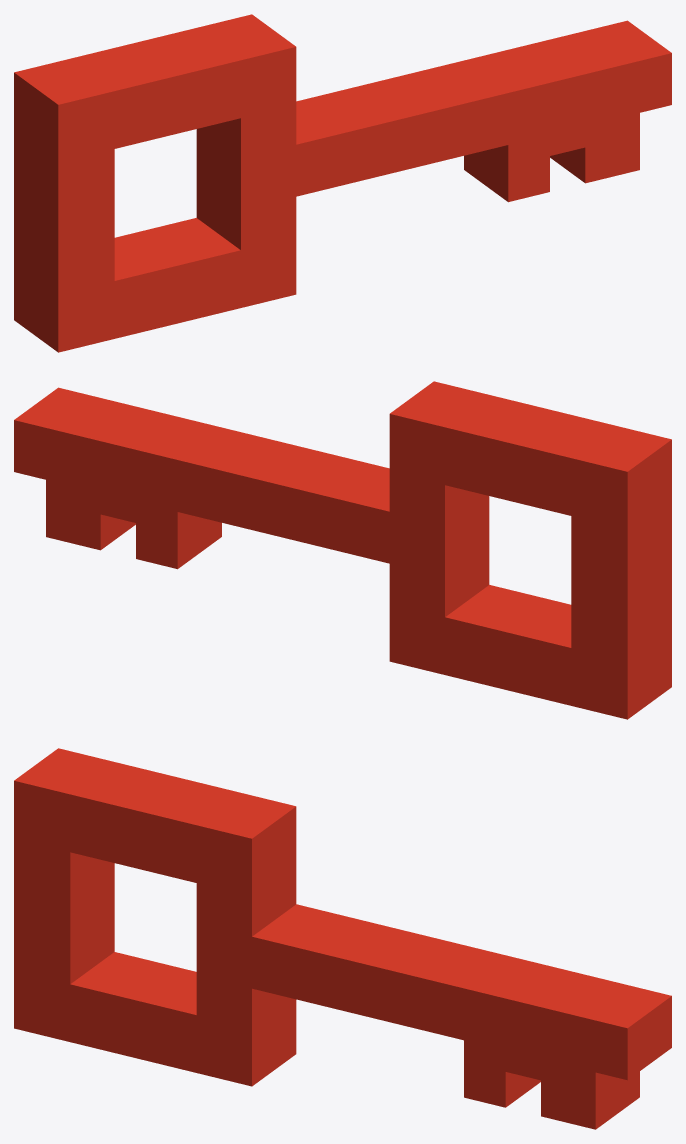
File: Icon_Key_02.fbx
3 renders of one model, top to bottom at view 1: azimuth 30°, elevation 25°; view 2: azimuth 150°, elevation 25°; view 3: azimuth 330°, elevation 25°, orthographic.
Parts seen in each view (by area): view 1: Icon_Key_02; view 2: Icon_Key_02; view 3: Icon_Key_02.
Boxes of the visible parts, <box> form: Icon_Key_02: <box>14,14,671,352</box>; Icon_Key_02: <box>14,381,671,719</box>; Icon_Key_02: <box>14,748,671,1129</box>.
Size of the model in its own units: 96.34 by 37.17 by 12.06.
